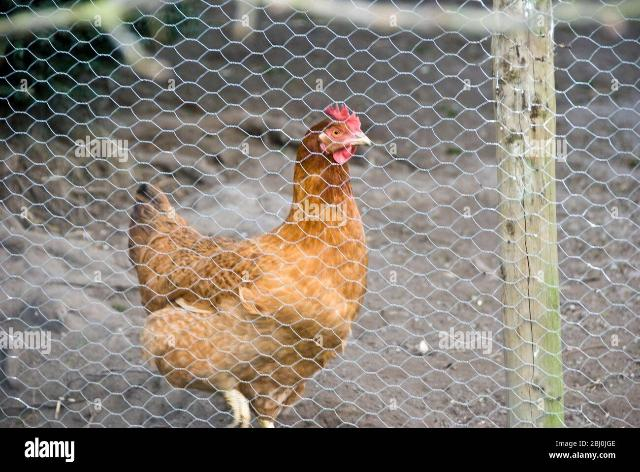Chicken: (128, 104, 375, 427)
